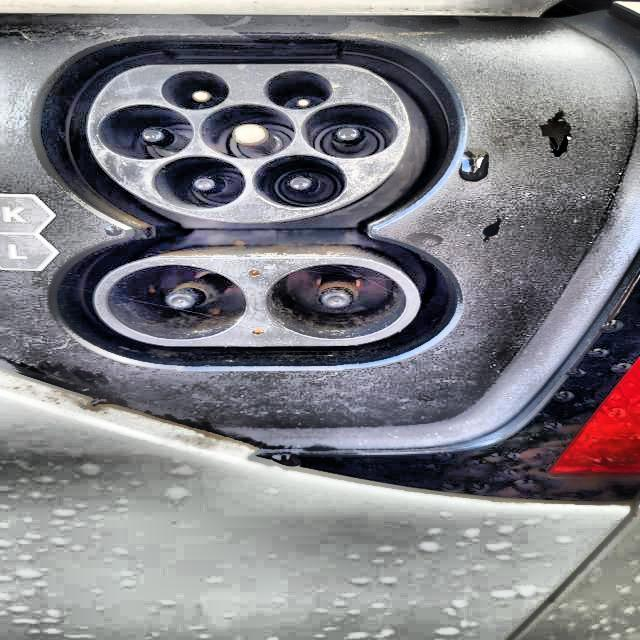inlet: (85, 64, 410, 223)
inlet-above-left: (162, 71, 229, 110)
inlet-above-right: (265, 71, 332, 110)
inlet-below-left: (154, 155, 245, 209)
inlet-below-right: (253, 155, 347, 207)
inlet-center: (201, 103, 294, 158)
inlet-center-left: (97, 104, 194, 160)
inlet-center-right: (302, 102, 397, 158)
